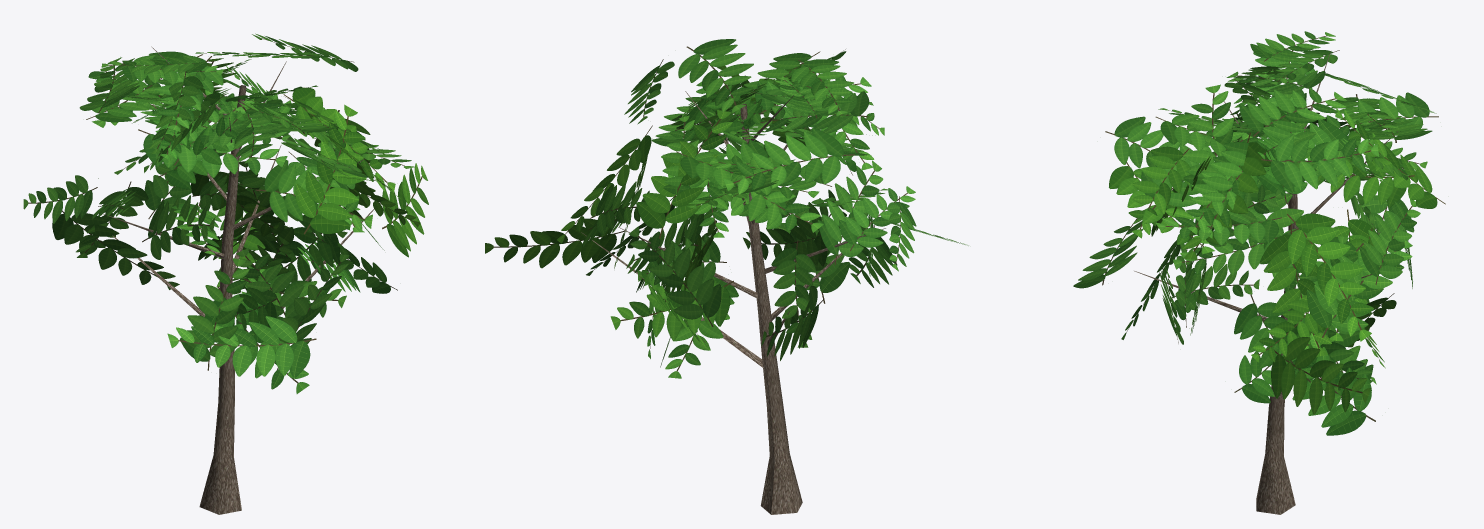
Rendered from copa_c_lo.glb.
3 views of the same model, side by side, from view 1: azimuth 30°, elevation 25°; view 2: azimuth 150°, elevation 25°; view 3: azimuth 270°, elevation 25° (orthographic). The views are drawn at different scales.
Visible parts, largest first — view 1: copa_c_lo; view 2: copa_c_lo; view 3: copa_c_lo.
Boxes of the visible parts, x1,y1,x2,y2 form: copa_c_lo: (23,33,428,514); copa_c_lo: (485,39,968,514); copa_c_lo: (1073,31,1445,514).
Size of the model in its own units: 9.61 by 9.64 by 8.3.
2 materials, 2 textured.
